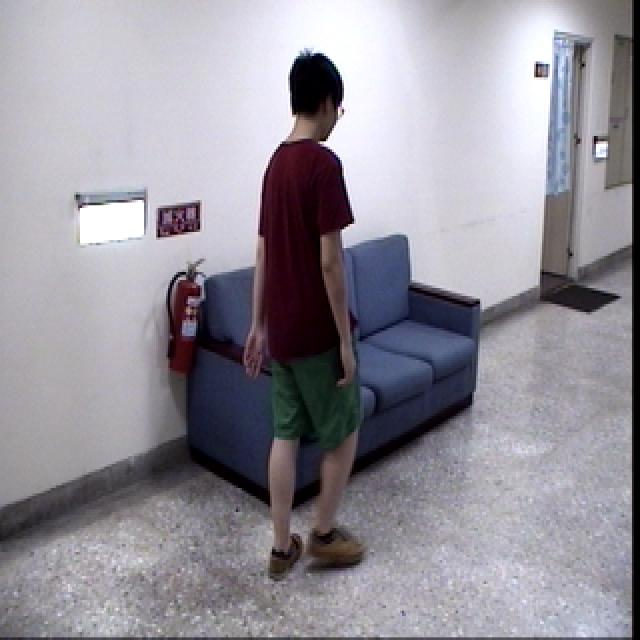stand: (231, 44, 385, 585)
